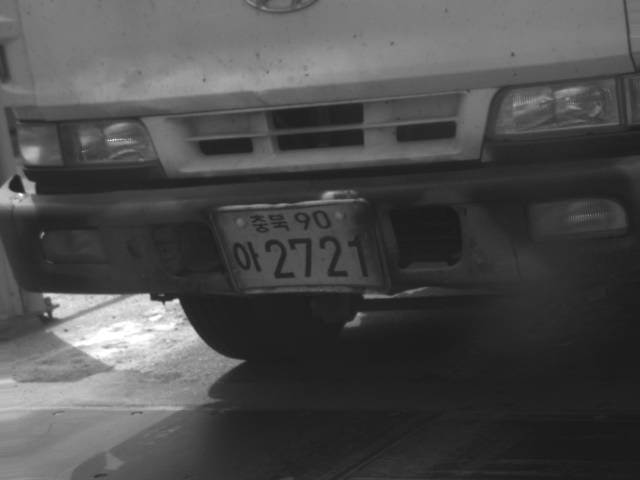car: (1, 1, 640, 361)
plate: (207, 198, 389, 292)
